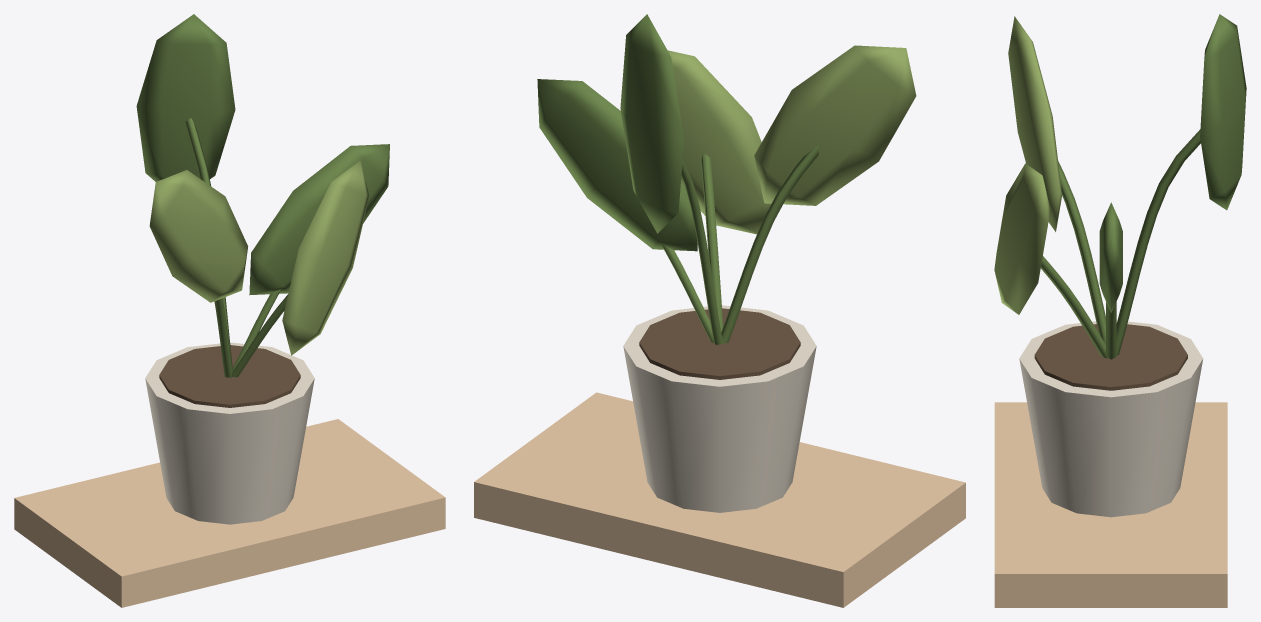
Rendered from bathroom_ref_shower_plant.glb.
The picture shows the model from 3 angles, left to right: view 1: azimuth 30°, elevation 25°; view 2: azimuth 150°, elevation 25°; view 3: azimuth 270°, elevation 25°; orthographic projection. The views are drawn at different scales.
Size of the model in its own units: 0.54 by 0.7568 by 0.3355.
